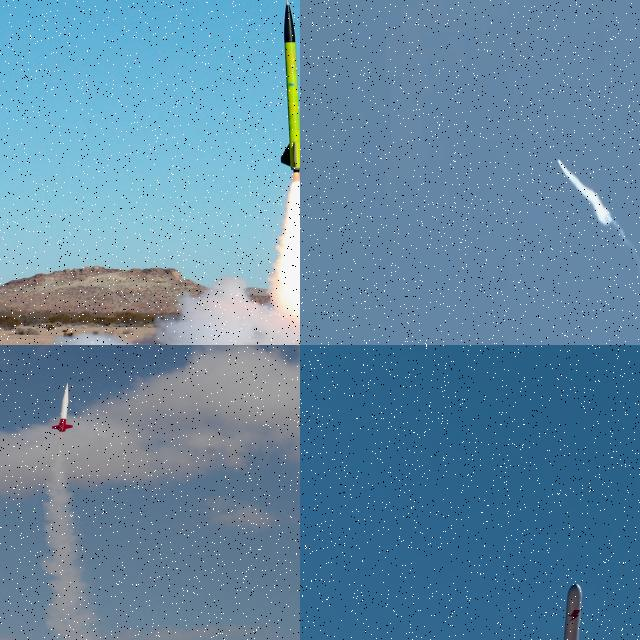Rocket: (280, 0, 300, 173), (546, 577, 592, 640), (51, 383, 74, 433), (555, 155, 559, 161)
